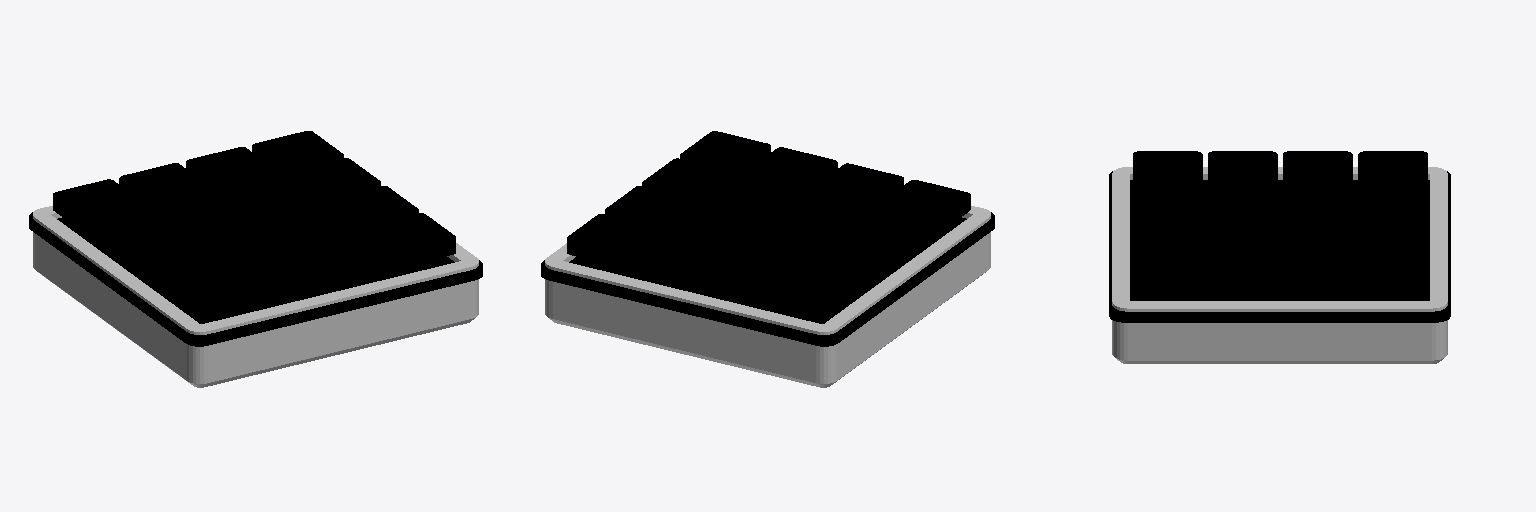
Rendered from MacropadRender_.obj.
3 renders of one model, left to right at view 1: azimuth 30°, elevation 25°; view 2: azimuth 150°, elevation 25°; view 3: azimuth 270°, elevation 25°, orthographic.
Parts seen in each view (by area): view 1: Cube.019, Cube.001, Cube.016, Cube.010, Cube.013, Cube.020, Cube.003, Cube.009; view 2: Cube.019, Cube.016, Cube.013, Cube.001, Cube.010, Cube.020, Cube.017, Cube.018; view 3: Cube.019, Cube.001, Cube.010, Cube.013, Cube.016, Cube.020.
Part boxes in pixels (x1,y1,x2,y2): Cube.019: (33, 206, 478, 387); Cube.001: (166, 213, 455, 315); Cube.016: (53, 131, 343, 232); Cube.010: (128, 186, 418, 287); Cube.013: (91, 158, 380, 260); Cube.020: (29, 212, 482, 346); Cube.003: (181, 290, 308, 321); Cube.009: (323, 257, 441, 289); Cube.019: (545, 206, 990, 387); Cube.016: (567, 214, 857, 315); Cube.013: (605, 186, 895, 288); Cube.001: (680, 131, 970, 233); Cube.010: (642, 158, 932, 260); Cube.020: (541, 212, 994, 346); Cube.017: (715, 290, 842, 322); Cube.018: (581, 258, 699, 289); Cube.019: (1112, 167, 1447, 363); Cube.001: (1133, 151, 1202, 293); Cube.010: (1208, 151, 1277, 293); Cube.013: (1283, 151, 1352, 293); Cube.016: (1358, 151, 1427, 293); Cube.020: (1109, 171, 1450, 322).
Bounding box in the file's own units: 8.81 × 2.33 × 8.81.